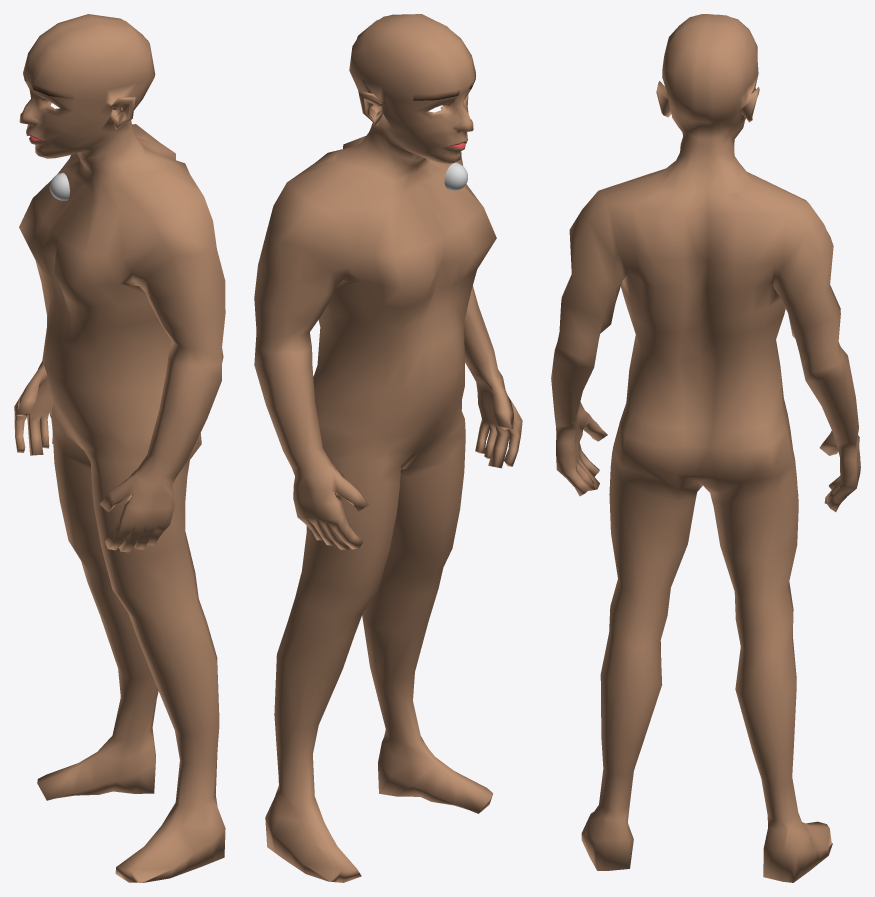
Rendered from boneco18.glb.
3 renders of one model, left to right at view 1: azimuth 30°, elevation 25°; view 2: azimuth 150°, elevation 25°; view 3: azimuth 270°, elevation 25°, orthographic.
Parts seen in each view (by area): view 1: Plane.022, Sphere.019; view 2: Plane.022, Sphere.019; view 3: Plane.022.
Part boxes in pixels (bbox=[...]): Plane.022: bbox=[14, 14, 225, 882]; Sphere.019: bbox=[49, 172, 69, 200]; Plane.022: bbox=[254, 14, 522, 882]; Sphere.019: bbox=[444, 162, 467, 190]; Plane.022: bbox=[551, 14, 860, 882].
Size of the model in its own units: 0.7467 by 3.47 by 1.2.
